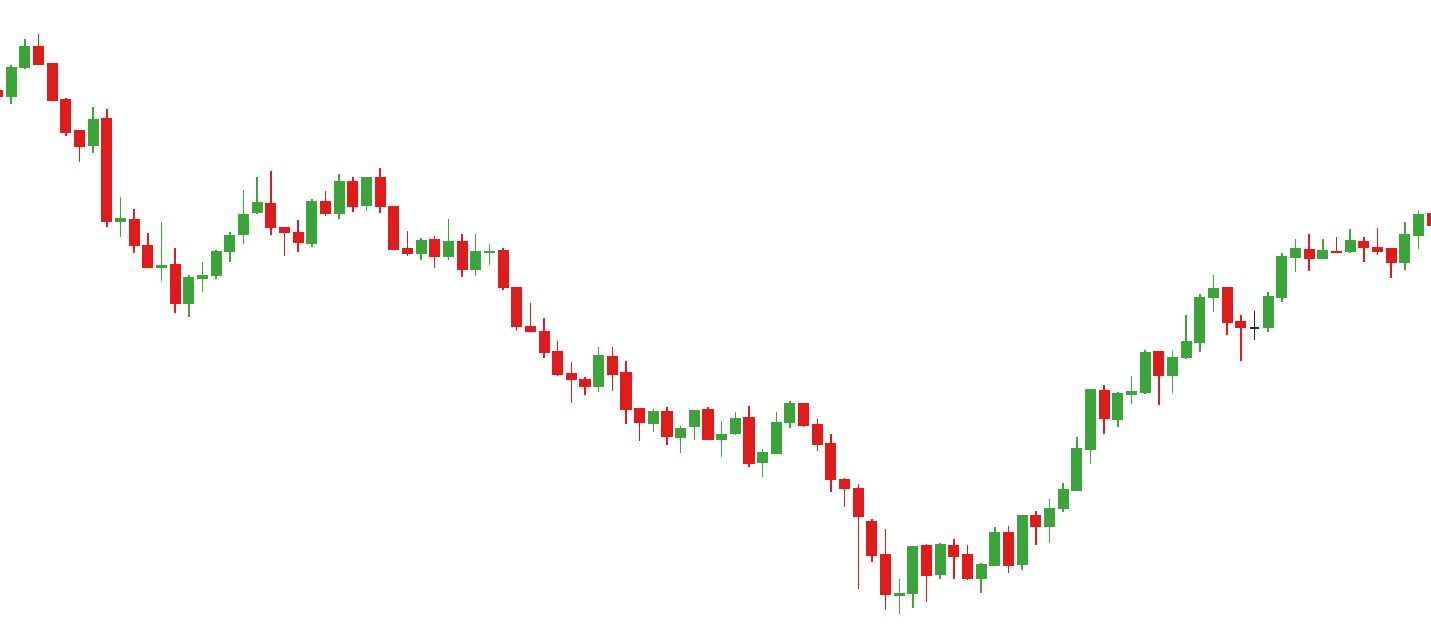sell: (727, 402, 811, 450)
